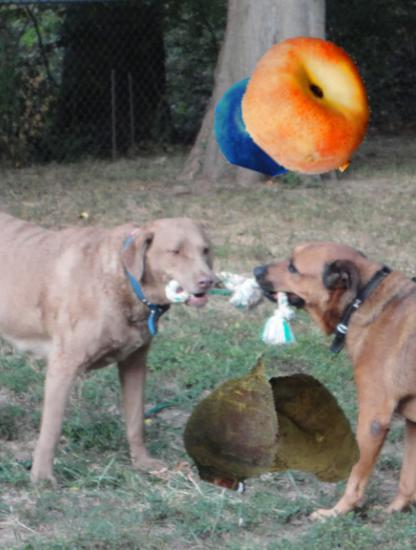Beetroot: (165, 345, 313, 493)
Ginger: (236, 376, 362, 502)
Huckleberry: (213, 72, 317, 176)
Peach: (242, 37, 379, 174)
